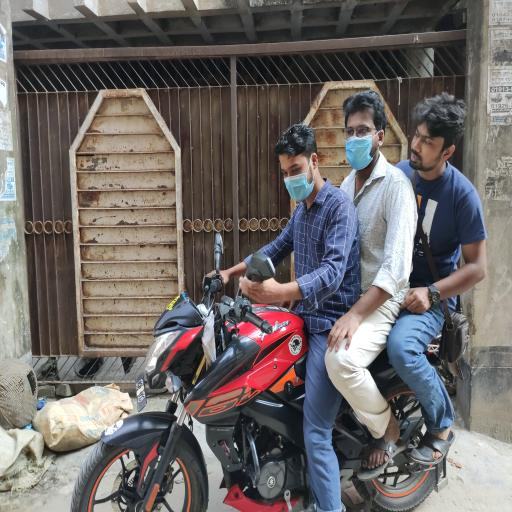helmet: (0, 356, 39, 429)
overloading: (69, 241, 460, 510)
